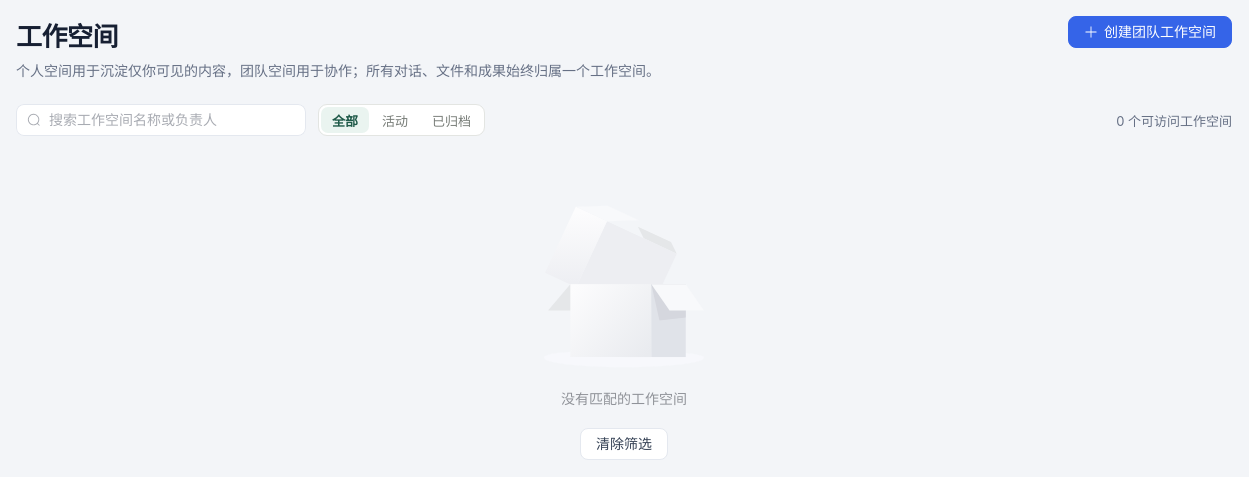
Test: WorkspacesView 归档筛选与归档卡片（design §2.1 / §6） › never renders a personal space under the 已归档 filter (server is not trusted blindly)
Step 1. Click the tab with test id "workspace-filter-archived" → point(452, 120), box [421, 107, 482, 133]
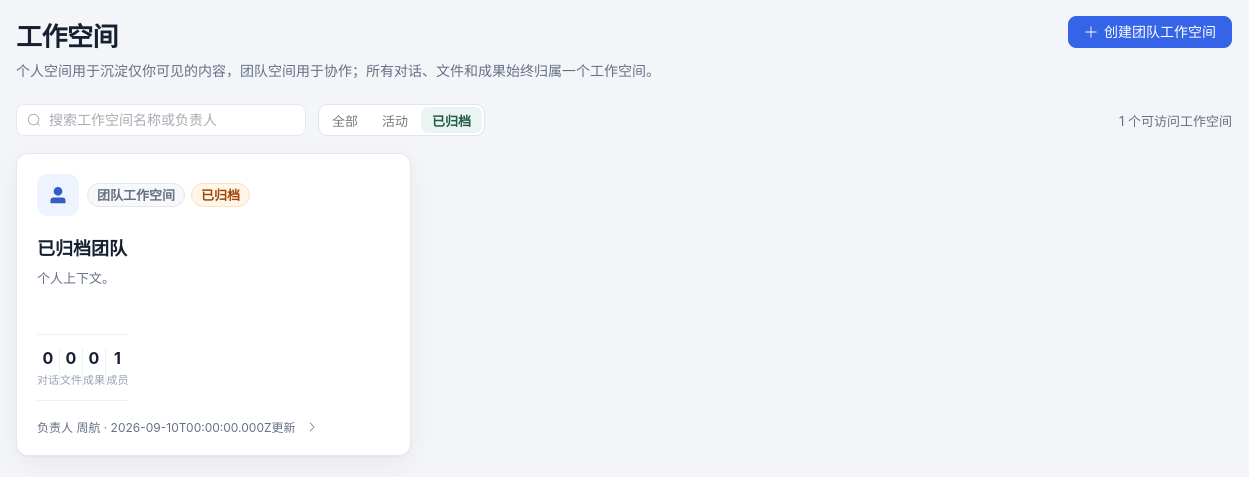
Expected: the text "已归档团队" is shown, [37, 234, 127, 260]
Expected: the text "1 个可访问工作空间" is shown, [1119, 111, 1232, 130]
